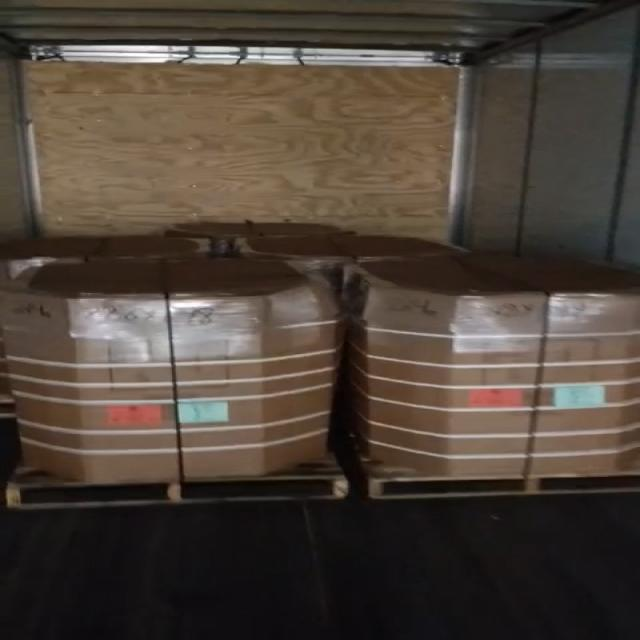pallet: (4, 475, 351, 512), (366, 471, 640, 500)
